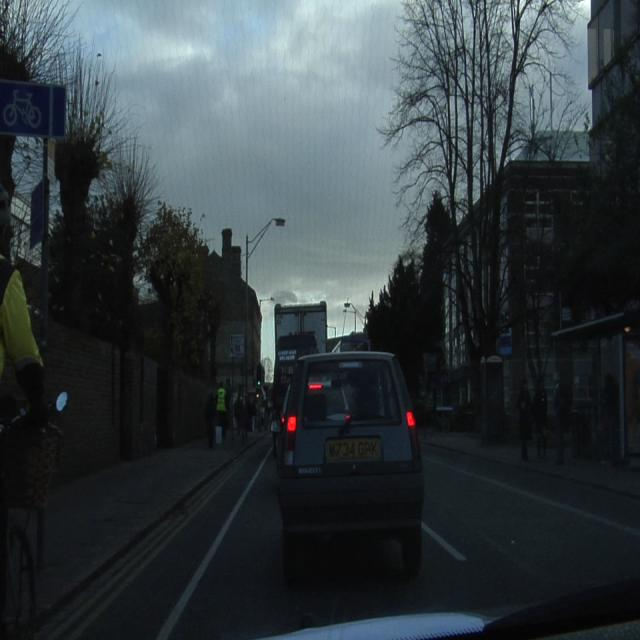Car: (277, 352, 424, 581)
Road: (165, 444, 637, 639), (70, 438, 271, 639)
Tree: (366, 0, 576, 419), (50, 52, 210, 372), (552, 30, 639, 320)
